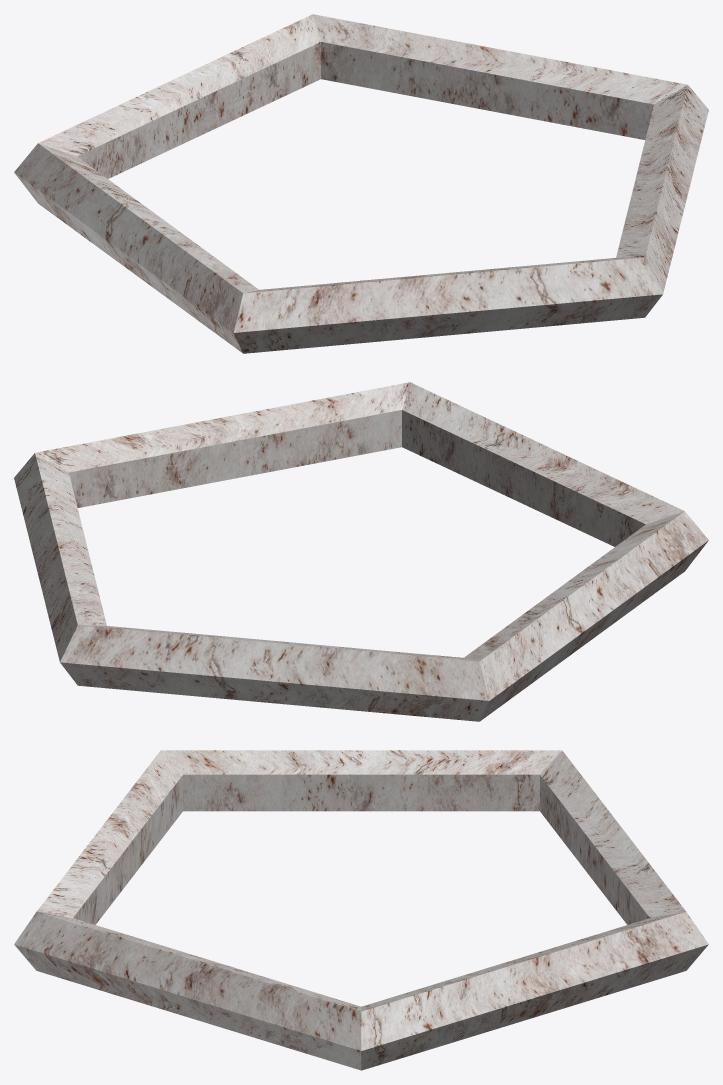
Rendered from Brass_Pentagon.glb.
The picture shows the model from 3 angles, top to bottom: view 1: azimuth 30°, elevation 25°; view 2: azimuth 150°, elevation 25°; view 3: azimuth 270°, elevation 25°; orthographic projection. The views are drawn at different scales.
Parts seen in each view (by area): view 1: Brass Pentagon; view 2: Brass Pentagon; view 3: Brass Pentagon.
Boxes of the visible parts, x1=… form: Brass Pentagon: x1=14, y1=14, x2=708, y2=353; Brass Pentagon: x1=14, y1=382, x2=708, y2=721; Brass Pentagon: x1=14, y1=750, x2=708, y2=1070.
Bounding box in the file's own units: 2.89 × 0.2853 × 3.04.
1 material, 1 textured.
